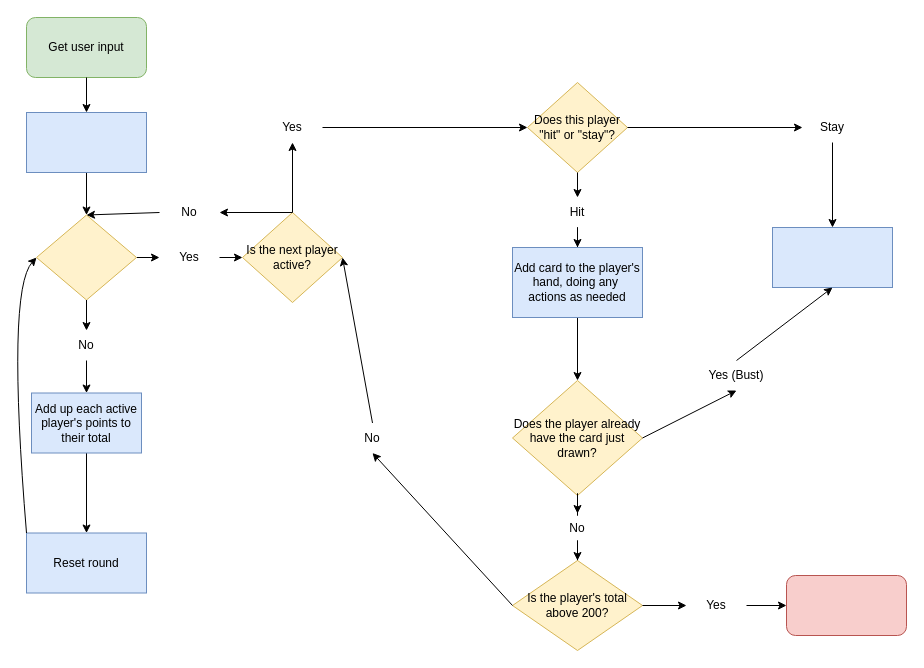
Image size: 924x668. Some labels were removed from this diagram. The shapes that lost their labels are listed below. From the top down, each one's centre as x and y in pixels, then its label:
the point at 86,142: Initialize game and and begin a round
the point at 86,257: Are any players active?
the point at 832,257: Set this player to inactive status
the point at 846,605: Current player wins
